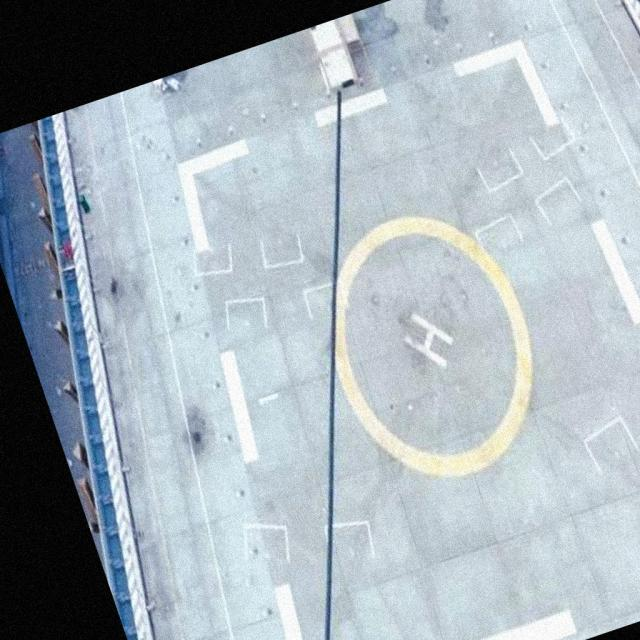helipad: (328, 212, 536, 480)
